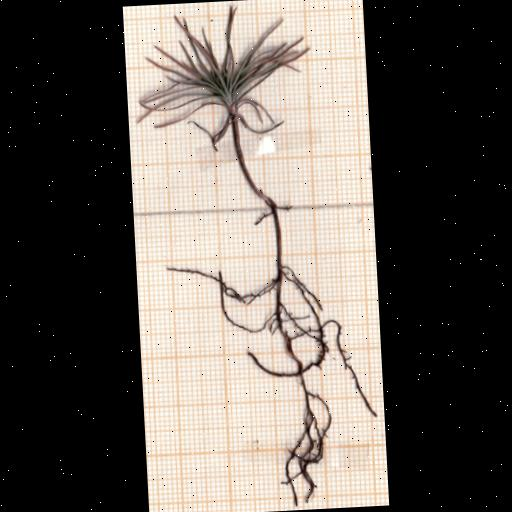flowerCedr: (138, 6, 308, 151)
rootCedr: (171, 204, 378, 505)
stemCedr: (232, 116, 277, 210)
